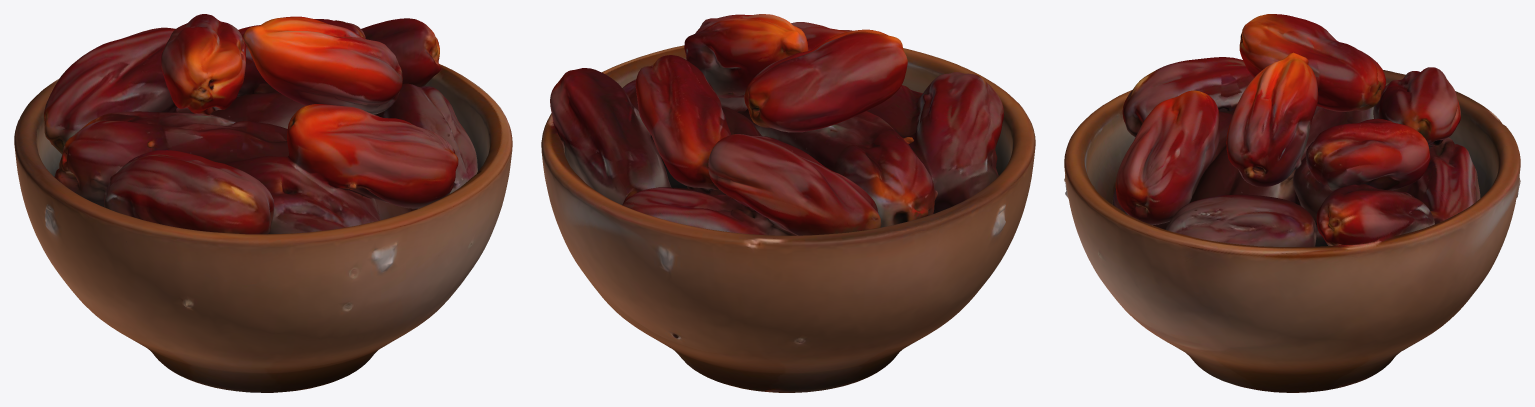
File: Dates.glb
3 renders of one model, left to right at view 1: azimuth 30°, elevation 25°; view 2: azimuth 150°, elevation 25°; view 3: azimuth 270°, elevation 25°, orthographic. The views are drawn at different scales.
Visible parts, largest first — view 1: vrin_node_42f2bd93-e4cc-4ff4-9b48-6ddc0229b4e6; view 2: vrin_node_42f2bd93-e4cc-4ff4-9b48-6ddc0229b4e6; view 3: vrin_node_42f2bd93-e4cc-4ff4-9b48-6ddc0229b4e6.
Boxes of the visible parts, bbox=[...] form: vrin_node_42f2bd93-e4cc-4ff4-9b48-6ddc0229b4e6: bbox=[14, 14, 512, 392]; vrin_node_42f2bd93-e4cc-4ff4-9b48-6ddc0229b4e6: bbox=[541, 14, 1035, 392]; vrin_node_42f2bd93-e4cc-4ff4-9b48-6ddc0229b4e6: bbox=[1064, 14, 1520, 392].
Size of the model in its own units: 0.9997 by 0.739 by 0.9974.
Materials: 1 (1 with a texture image).
